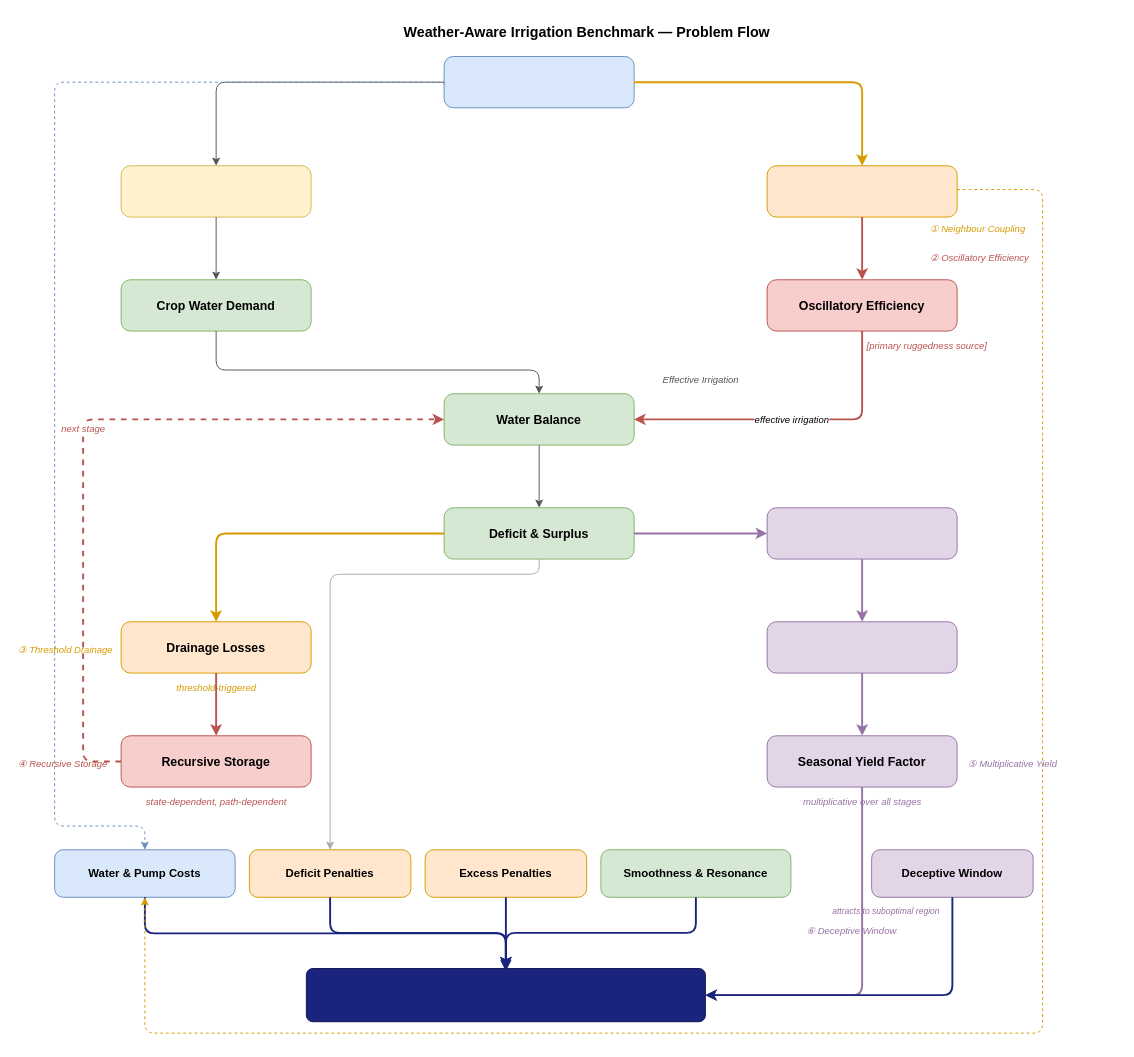
Some shapes in this 1134 by 1057 pixel diagram are drawn without their labels. The box of each missing label's shape, as (x1, y1, x2, y2) in pixels:
Irrigation Depths: (443, 56, 634, 108)
Minimize f (x): (305, 968, 705, 1022)
Neighbour Coupling: (766, 165, 957, 217)
Stage Yield: (766, 621, 957, 673)
Water Stress: (766, 507, 957, 559)
Weather Profiles: (120, 165, 311, 217)
